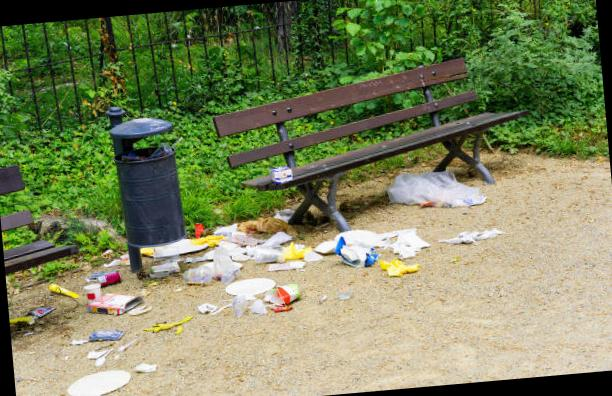trash: (309, 219, 429, 279), (384, 160, 492, 220), (37, 271, 150, 327), (61, 350, 172, 396), (188, 227, 263, 294), (188, 291, 312, 323), (74, 319, 148, 367), (216, 206, 298, 247), (204, 265, 294, 301), (436, 216, 510, 252), (253, 231, 321, 270), (358, 256, 440, 282), (130, 312, 195, 342), (9, 296, 63, 332), (117, 134, 176, 166), (266, 157, 299, 188)
trash_can_overflow: (96, 96, 208, 292)
